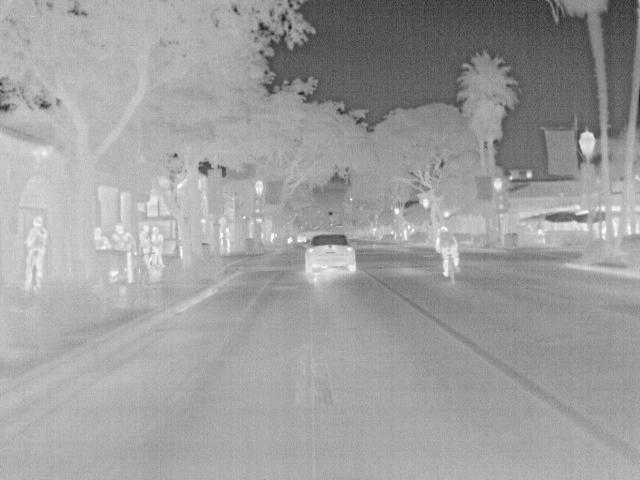car: (303, 232, 359, 276)
person: (25, 214, 47, 288), (110, 224, 133, 284), (436, 225, 459, 277), (148, 227, 166, 271), (140, 223, 154, 270), (92, 228, 113, 252)
